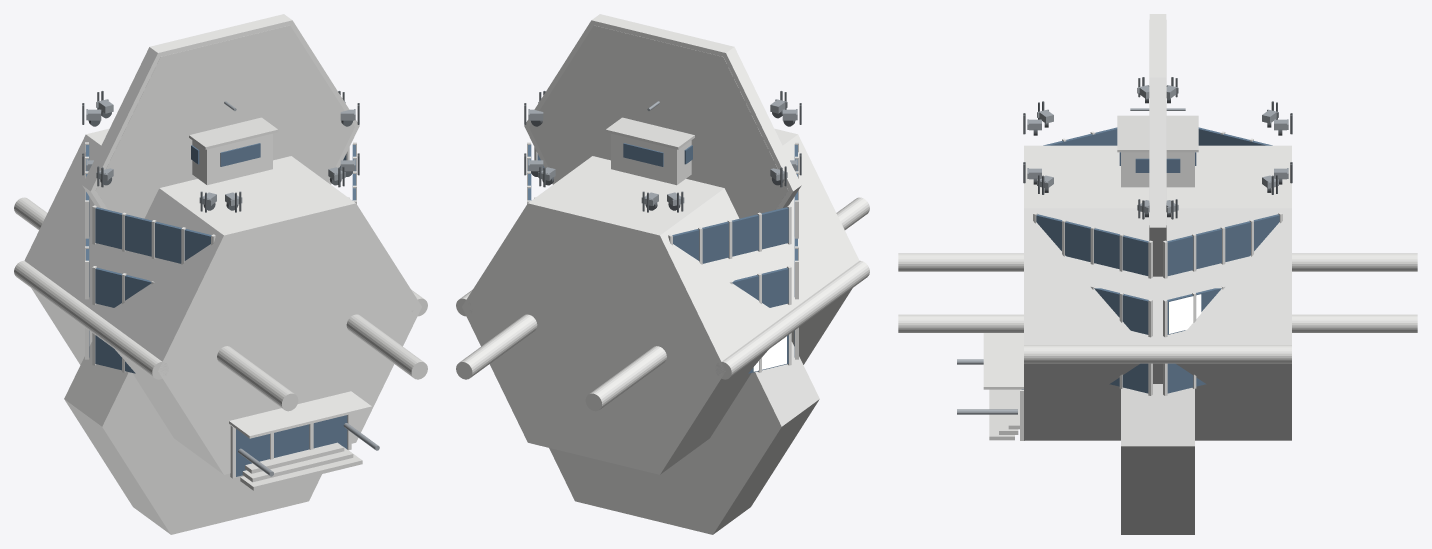
Rendered from HQ_HexBuilding.glb.
The picture shows the model from 3 angles, left to right: view 1: azimuth 30°, elevation 25°; view 2: azimuth 150°, elevation 25°; view 3: azimuth 270°, elevation 25°; orthographic projection. The views are drawn at different scales.
Parts seen in each view (by area): view 1: geometry_0, geometry_134, geometry_121, geometry_133, geometry_96, geometry_4, geometry_127, geometry_122, geometry_135, geometry_2, geometry_3, geometry_136 (+7 smaller); view 2: geometry_0, geometry_134, geometry_121, geometry_133, geometry_102, geometry_4, geometry_135, geometry_5, geometry_6, geometry_136, geometry_64, geometry_3 (+2 smaller); view 3: geometry_0, geometry_121, geometry_1, geometry_133, geometry_83, geometry_115, geometry_136, geometry_2, geometry_3, geometry_5, geometry_6, geometry_127 (+7 smaller).
Part boxes in pixels (box(x1,y1,x2,y2)): geometry_0: box(24, 128, 421, 474); geometry_134: box(95, 25, 354, 218); geometry_121: box(64, 342, 321, 534); geometry_133: box(82, 14, 359, 209); geometry_96: box(95, 207, 211, 263); geometry_4: box(14, 260, 168, 379); geometry_127: box(229, 391, 371, 438); geometry_122: box(236, 415, 347, 476); geometry_135: box(192, 133, 272, 185); geometry_2: box(346, 314, 427, 379); geometry_3: box(217, 346, 298, 411); geometry_136: box(189, 117, 278, 149); geometry_0: box(462, 128, 859, 474); geometry_134: box(529, 25, 788, 218); geometry_121: box(549, 342, 819, 534); geometry_133: box(524, 14, 801, 209); geometry_102: box(672, 207, 788, 263); geometry_4: box(715, 260, 869, 379); geometry_135: box(611, 133, 691, 185); geometry_5: box(585, 346, 666, 411); geometry_6: box(456, 314, 537, 379); geometry_136: box(605, 117, 694, 149); geometry_64: box(732, 267, 788, 307); geometry_3: box(836, 197, 869, 229); geometry_0: box(1024, 145, 1291, 440); geometry_121: box(1121, 384, 1194, 534); geometry_1: box(1024, 345, 1291, 363); geometry_133: box(1149, 14, 1166, 276); geometry_83: box(1036, 214, 1148, 275); geometry_115: box(1167, 214, 1279, 275); geometry_136: box(1117, 115, 1198, 152); geometry_2: box(898, 314, 1023, 332); geometry_3: box(898, 253, 1023, 271); geometry_5: box(1292, 253, 1417, 271); geometry_6: box(1292, 314, 1417, 332); geometry_127: box(983, 333, 1023, 389).
Size of the model in its own units: 16.7 by 27.24 by 28.1.
